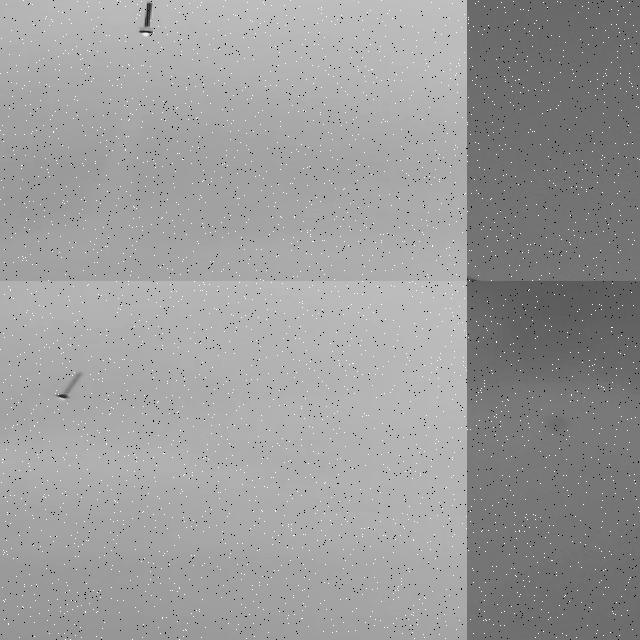Rocket: (56, 371, 83, 399), (138, 0, 156, 33)
